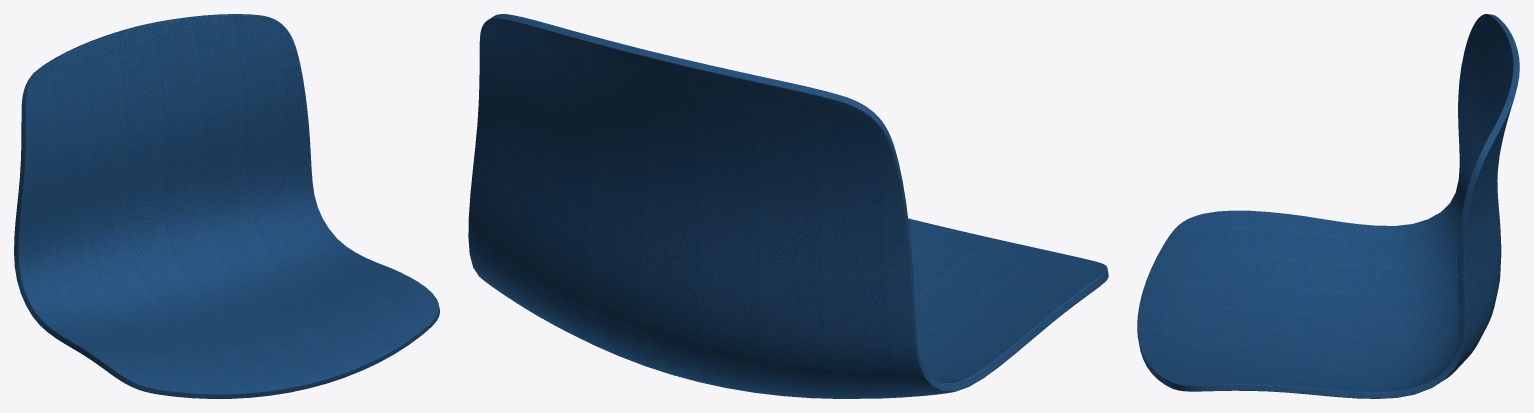
The model's file is stadiumChair.fbx.
3 renders of one model, left to right at view 1: azimuth 30°, elevation 25°; view 2: azimuth 150°, elevation 25°; view 3: azimuth 270°, elevation 25°, orthographic. The views are drawn at different scales.
Visible parts, largest first — view 1: AAC18 by Hay; view 2: AAC18 by Hay; view 3: AAC18 by Hay.
Boxes of the visible parts, box(x1,y1,x2,y2) form: AAC18 by Hay: box(14, 14, 439, 398); AAC18 by Hay: box(468, 14, 1108, 398); AAC18 by Hay: box(1137, 14, 1519, 398).
Bounding box in the file's own units: 208 × 154 × 192.
1 material, 1 textured.
